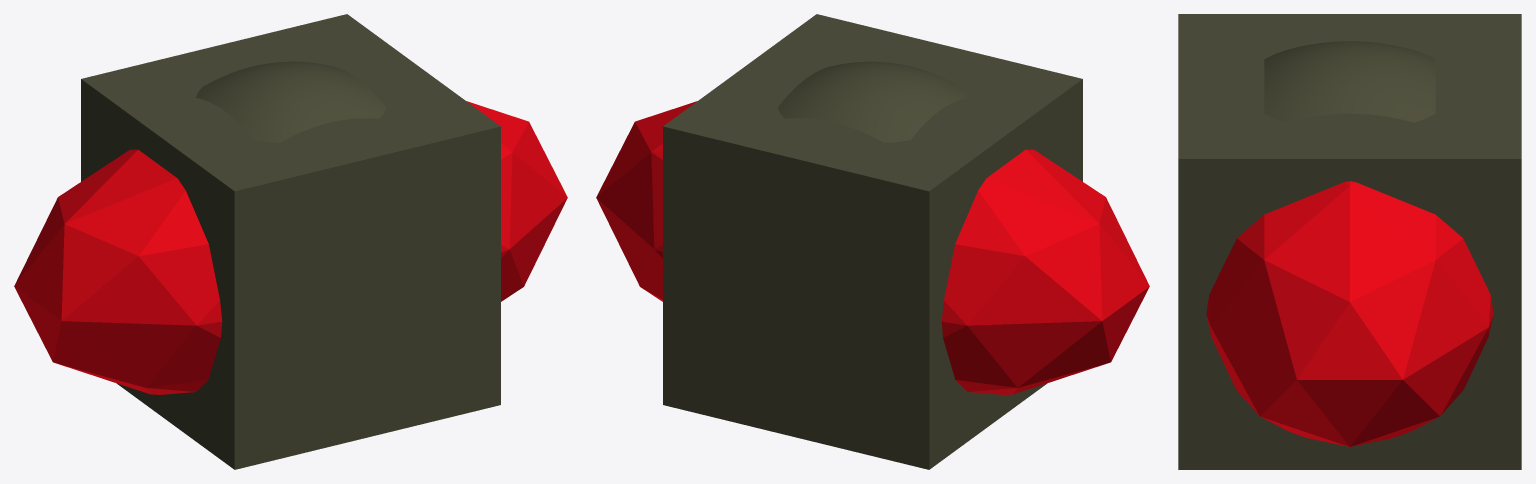
Rendered from Enemy1.fbx.
3 renders of one model, left to right at view 1: azimuth 30°, elevation 25°; view 2: azimuth 150°, elevation 25°; view 3: azimuth 270°, elevation 25°, orthographic. The views are drawn at different scales.
Visible parts, largest first — view 1: Cube, 아이코스피어, 서프 패치; view 2: Cube, 아이코스피어, 서프 패치; view 3: Cube, 아이코스피어, 서프 패치.
Part boxes in pixels (box(x1,y1,x2,y2)): Cube: box(81, 14, 500, 469); 아이코스피어: box(14, 101, 567, 394); 서프 패치: box(196, 61, 385, 142); Cube: box(663, 14, 1082, 469); 아이코스피어: box(596, 101, 1149, 394); 서프 패치: box(778, 61, 967, 142); Cube: box(1178, 14, 1521, 469); 아이코스피어: box(1206, 181, 1493, 446); 서프 패치: box(1264, 41, 1435, 122).
Size of the model in its own units: 380 by 218 by 200.
